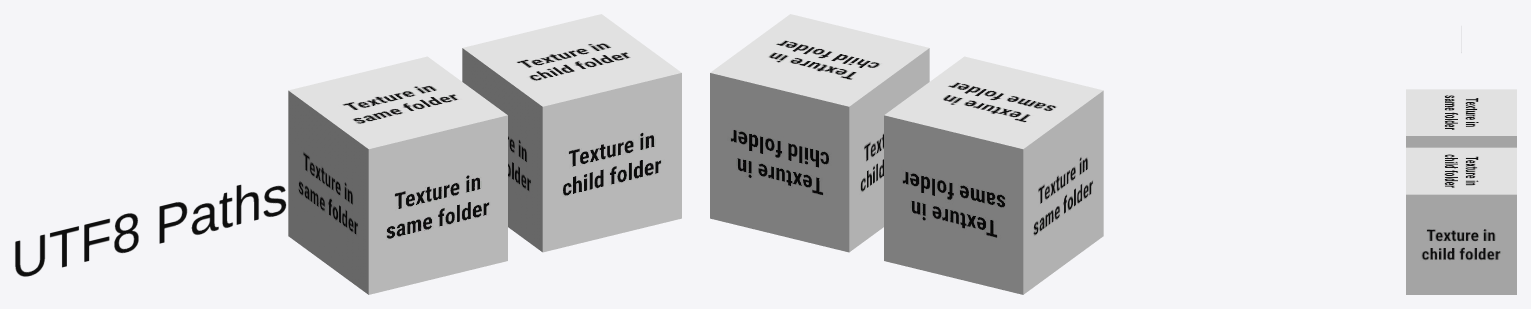
File: RelativeTexturePaths.gltf
The picture shows the model from 3 angles, left to right: view 1: azimuth 30°, elevation 25°; view 2: azimuth 150°, elevation 25°; view 3: azimuth 270°, elevation 25°; orthographic projection. The views are drawn at different scales.
Visible parts, largest first — view 1: SameFolderAsGltf, SubFolderOfGltf, Text (TMP); view 2: SameFolderAsGltf, SubFolderOfGltf; view 3: SubFolderOfGltf, SameFolderAsGltf.
Part boxes in pixels (x1,y1,x2,y2): SameFolderAsGltf: (288,56,507,294); SubFolderOfGltf: (462,14,681,252); Text (TMP): (15,185,285,276); SameFolderAsGltf: (884,56,1103,294); SubFolderOfGltf: (710,14,929,252); SubFolderOfGltf: (1406,147,1516,294); SameFolderAsGltf: (1406,89,1516,147).
Size of the model in its own units: 4.51 by 1 by 1.
Materials: 3 (3 with a texture image).
